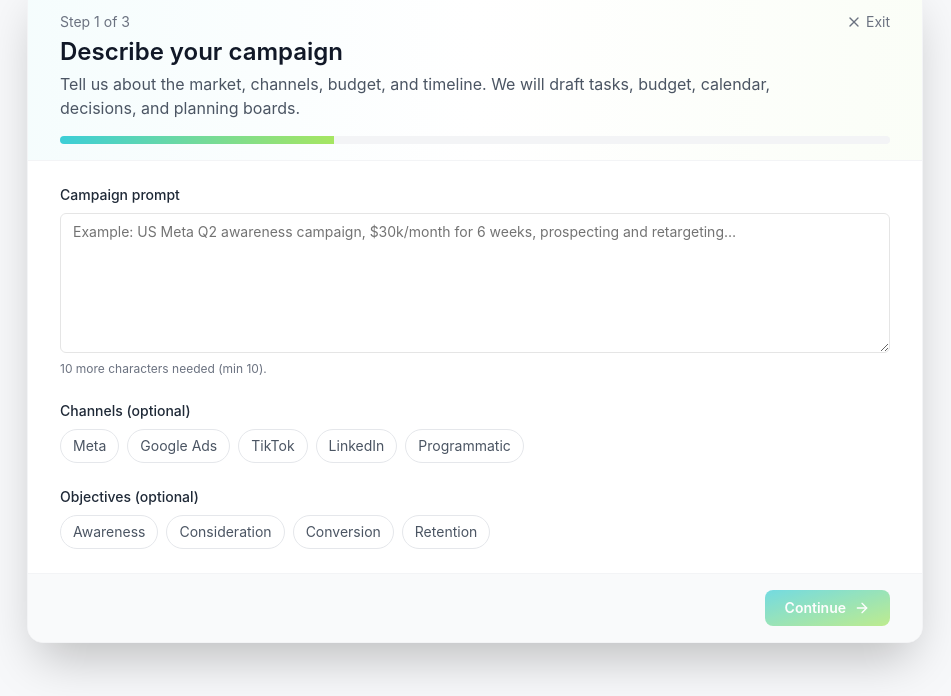
QuickStartWizard › shows API error on preview failure
In the text box labelled "Campaign prompt": {"x": 475, "y": 283} top-left (60, 213), bottom-right (890, 353), type "US Meta Q2 campaign with $30k monthly budget for six weeks"
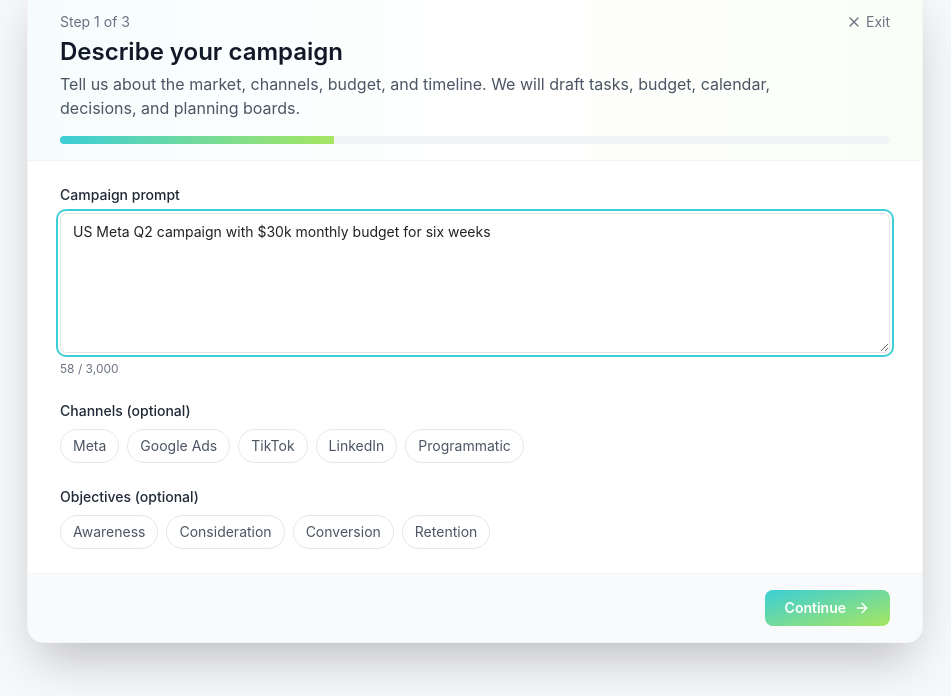
Click the button "Continue": {"x": 827, "y": 608} top-left (765, 590), bottom-right (890, 626)
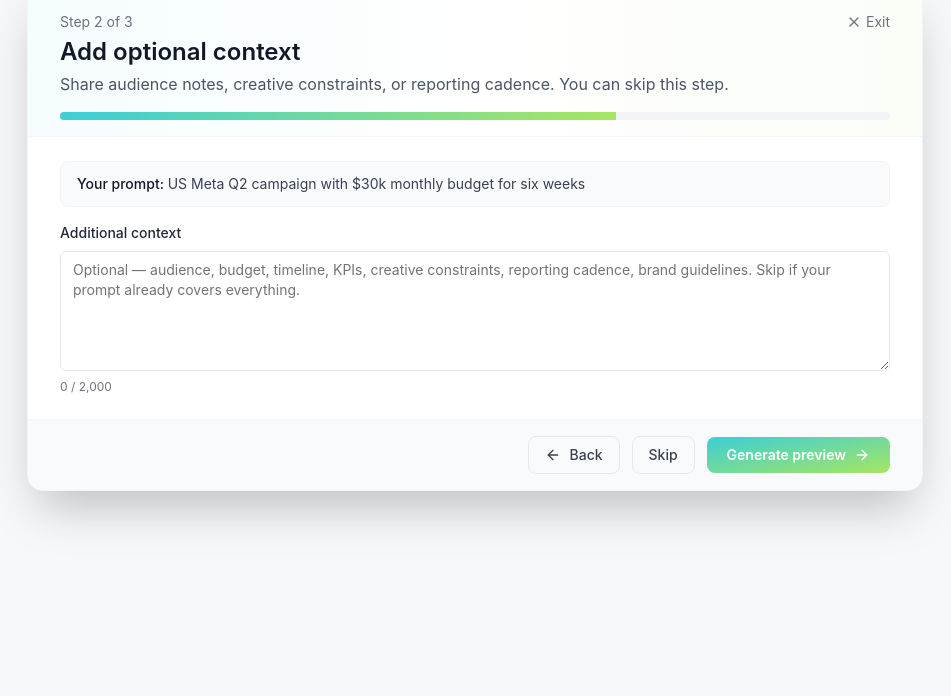
Result: the heading "Add optional context" is shown at top-left (60, 37), bottom-right (301, 66)
Click the button "Generate preview": {"x": 798, "y": 455} top-left (707, 437), bottom-right (890, 473)
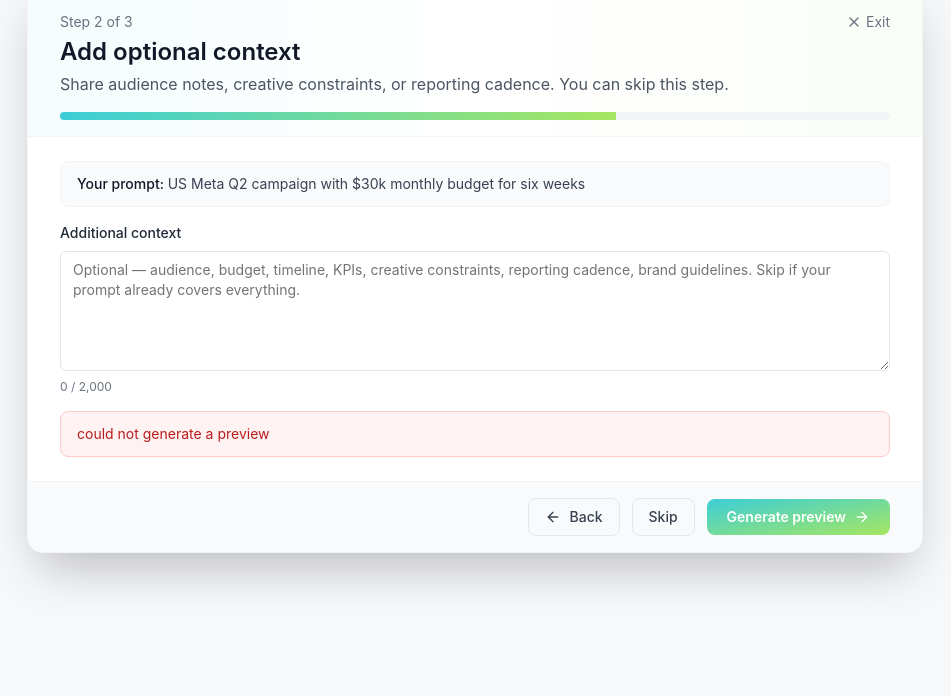
Result: the text "could not generate a preview" is shown at top-left (60, 411), bottom-right (890, 457)
